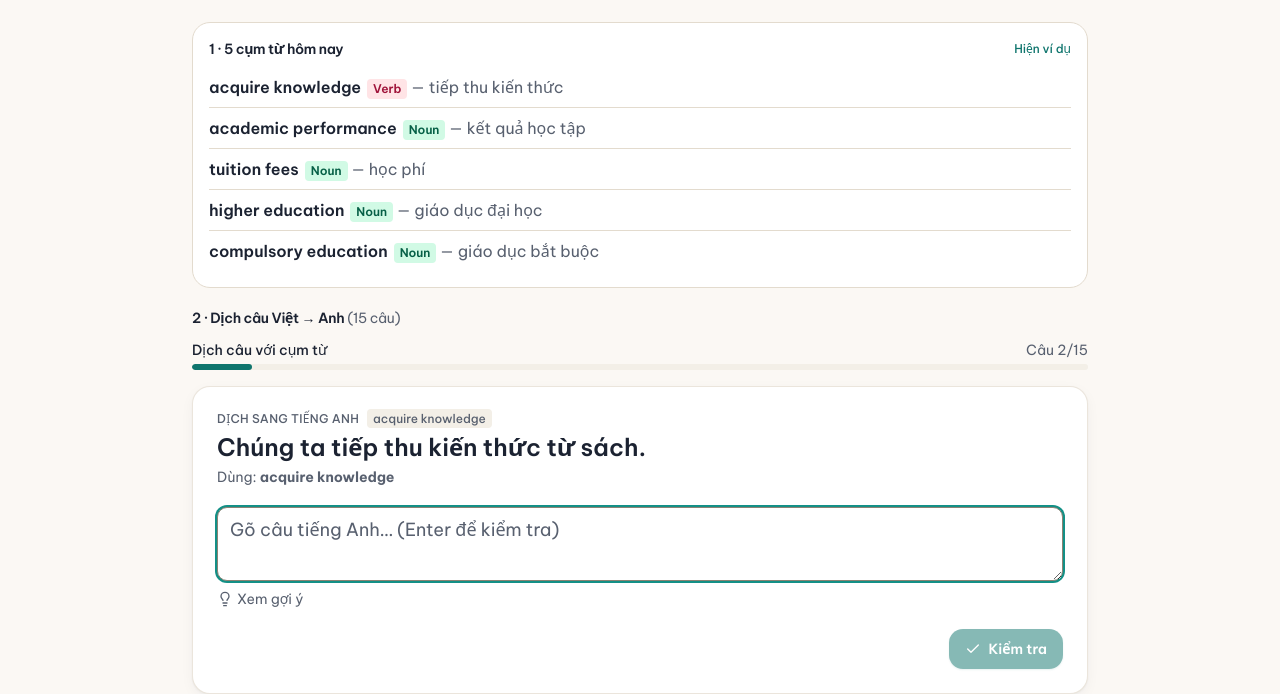
Test case: SentencesPage › shows the 5 collocations, then 3 Vietnamese sentences per collocation to translate, and saves a passing run
Earlier steps of the test are not shown.
Later steps or results of the test are not shown.
(page scrolled)
Expected: the text with test id "prompt" reads "Chúng ta tiếp thu kiến thức từ sách.", top-left (217, 432), bottom-right (646, 462)
Type "We acquire knowledge from books." into the text box named "Câu của bạn" at {"x": 640, "y": 544}, box top-left (217, 507), bottom-right (1063, 581)
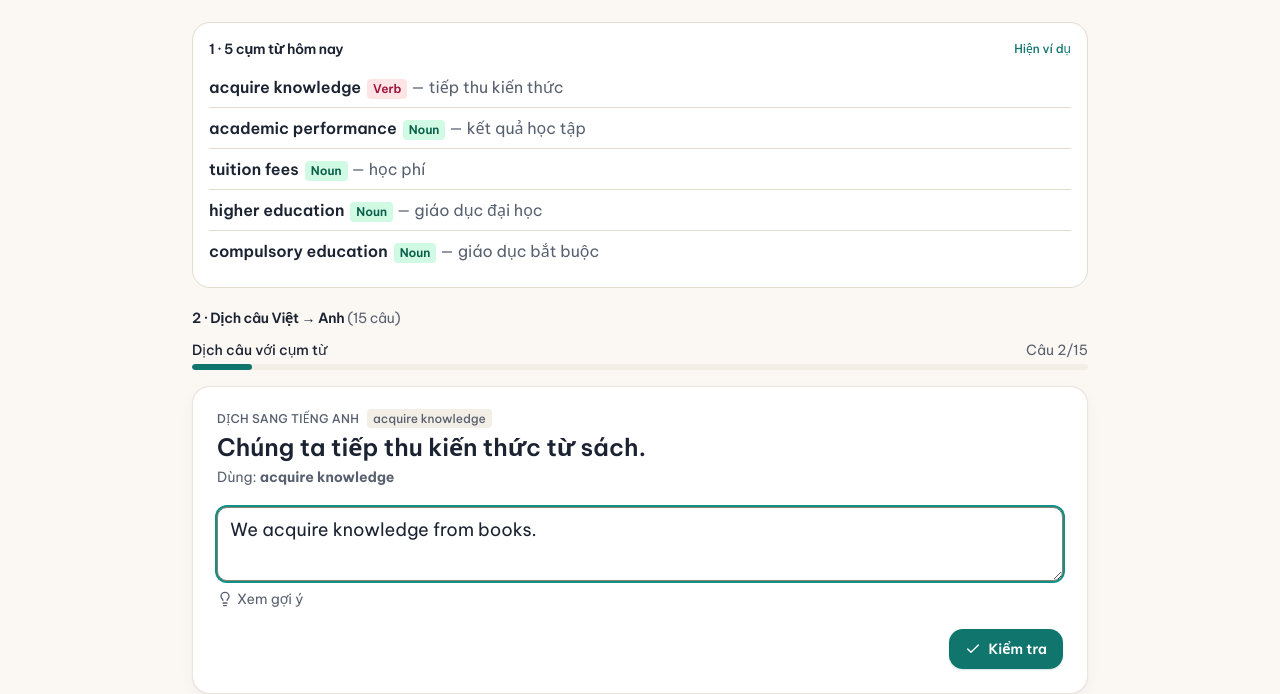
Click the button "Kiểm tra" at {"x": 1006, "y": 649}, box top-left (948, 629), bottom-right (1063, 669)
(page scrolled)
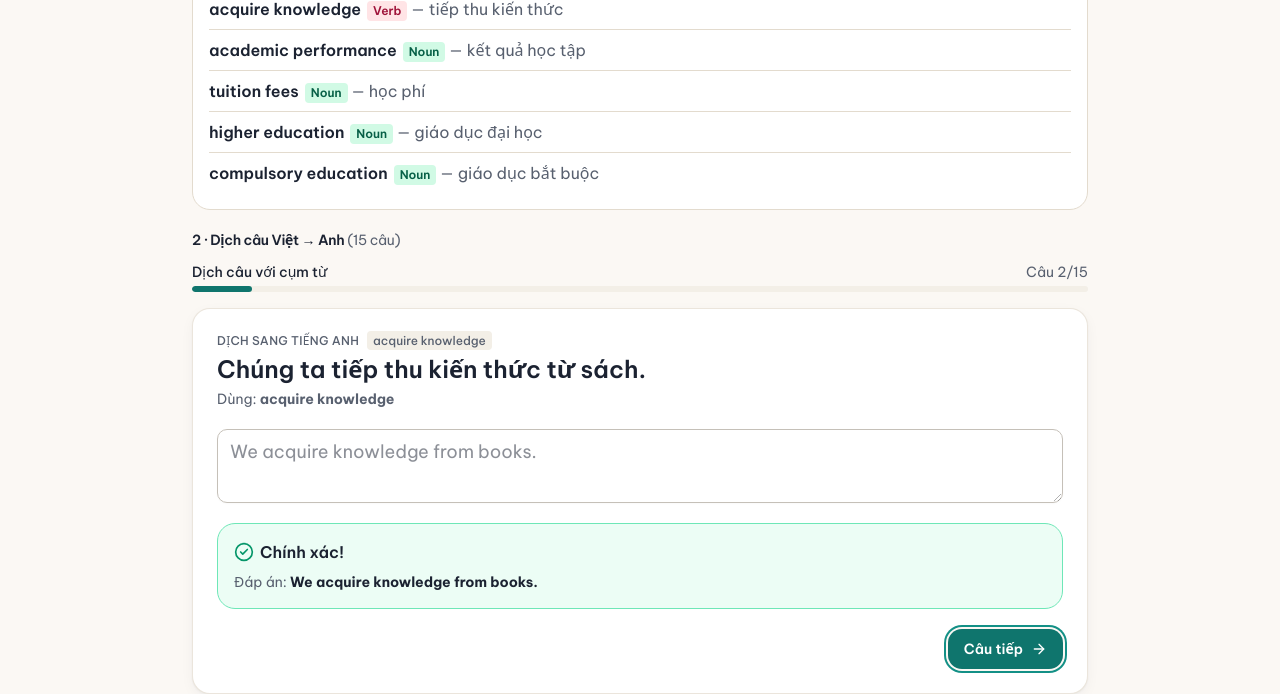
Click the button "Câu tiếp" at {"x": 1005, "y": 649}, box top-left (948, 629), bottom-right (1063, 669)
(page scrolled)
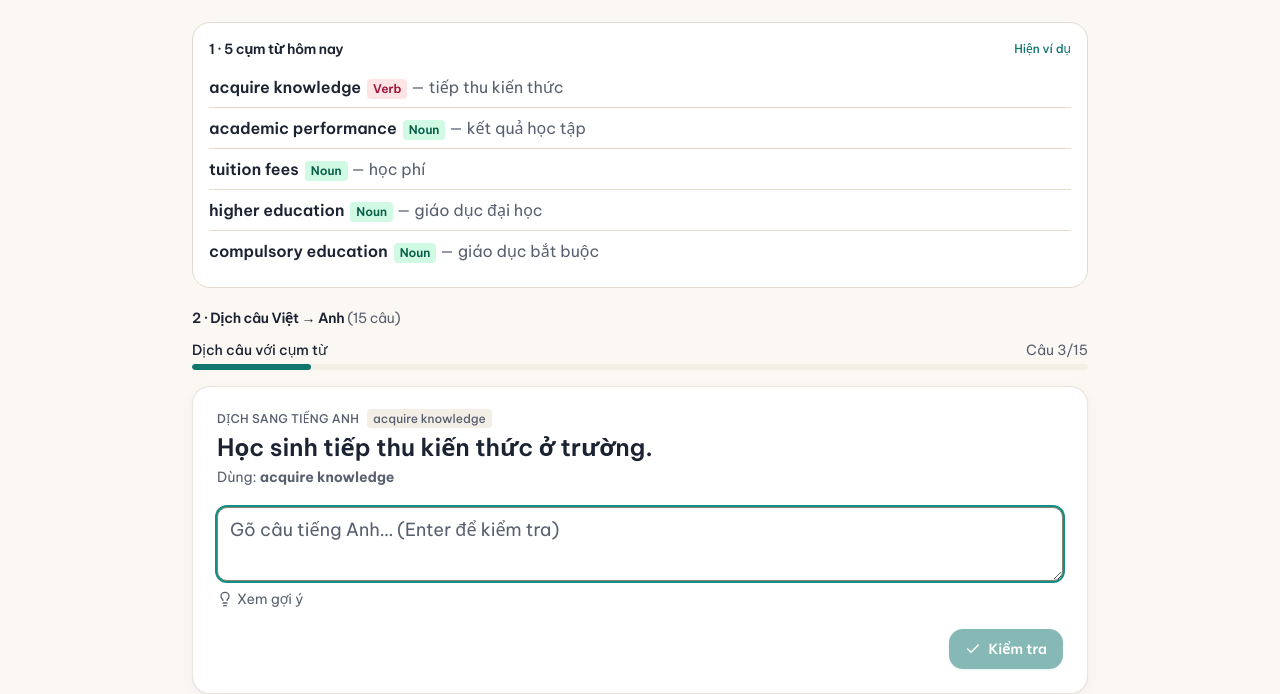
Type "Students acquire knowledge at school." into the text box named "Câu của bạn" at {"x": 640, "y": 544}, box top-left (217, 507), bottom-right (1063, 581)
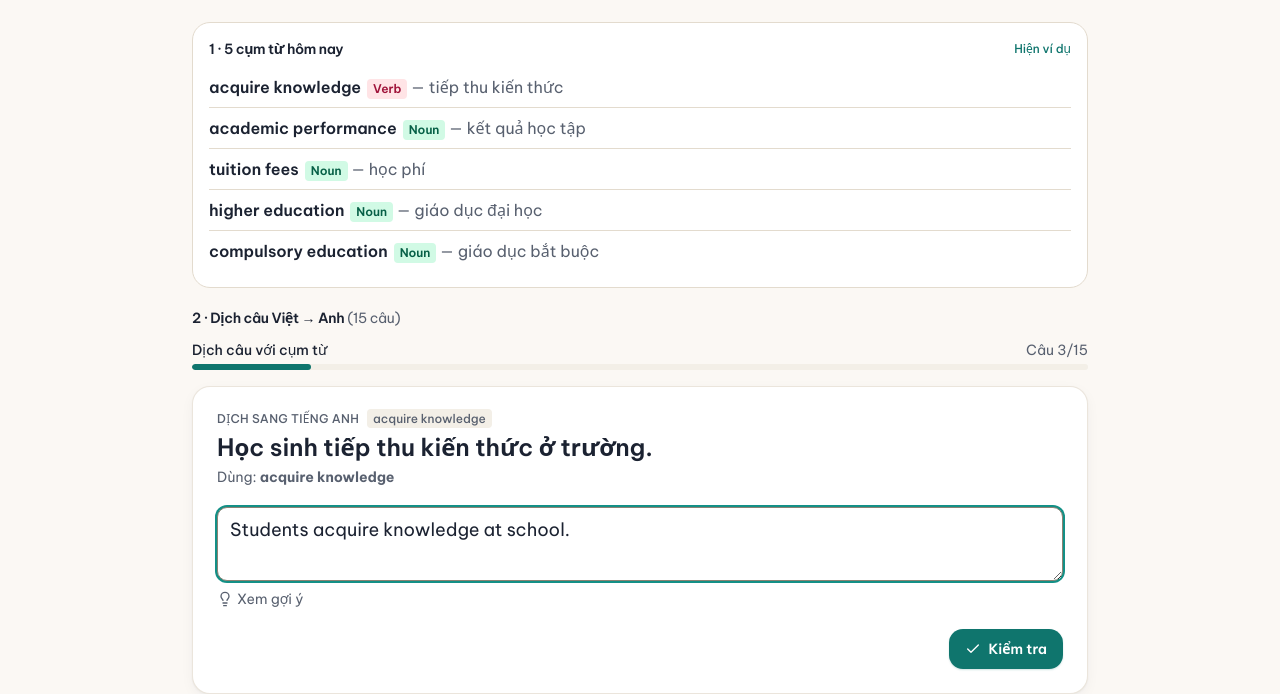
Click the button "Kiểm tra" at {"x": 1006, "y": 649}, box top-left (948, 629), bottom-right (1063, 669)
(page scrolled)
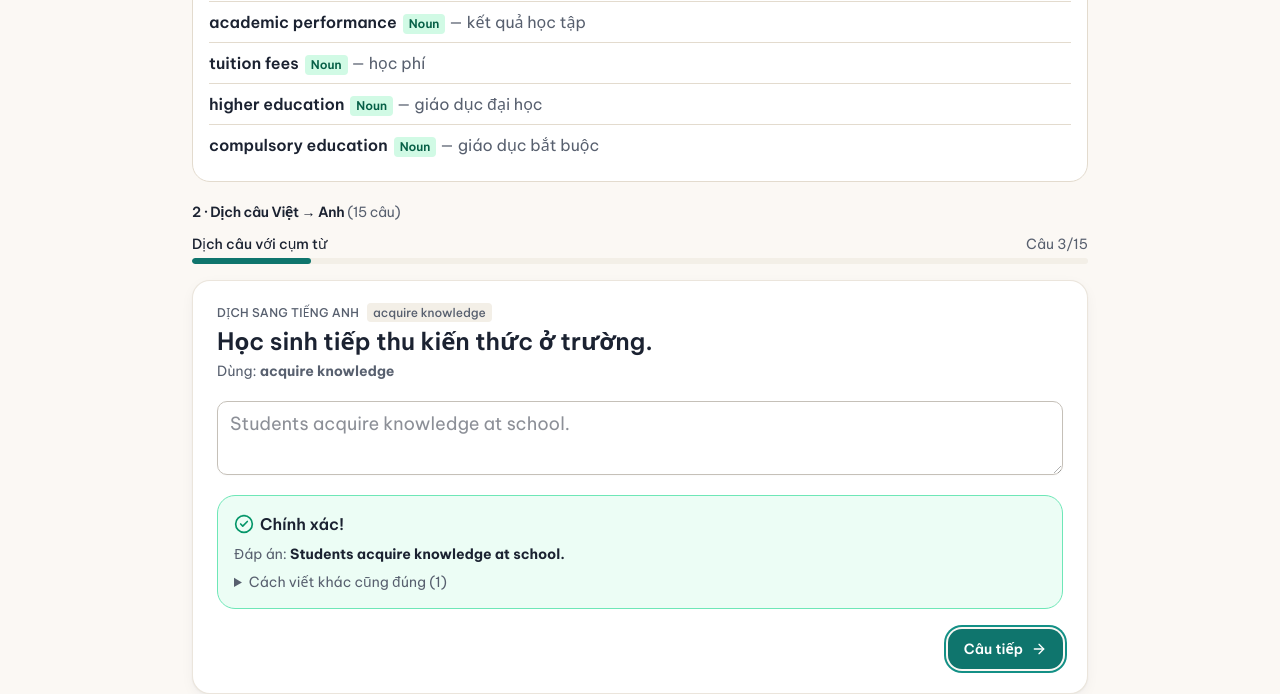
Click the button "Câu tiếp" at {"x": 1005, "y": 649}, box top-left (948, 629), bottom-right (1063, 669)
(page scrolled)
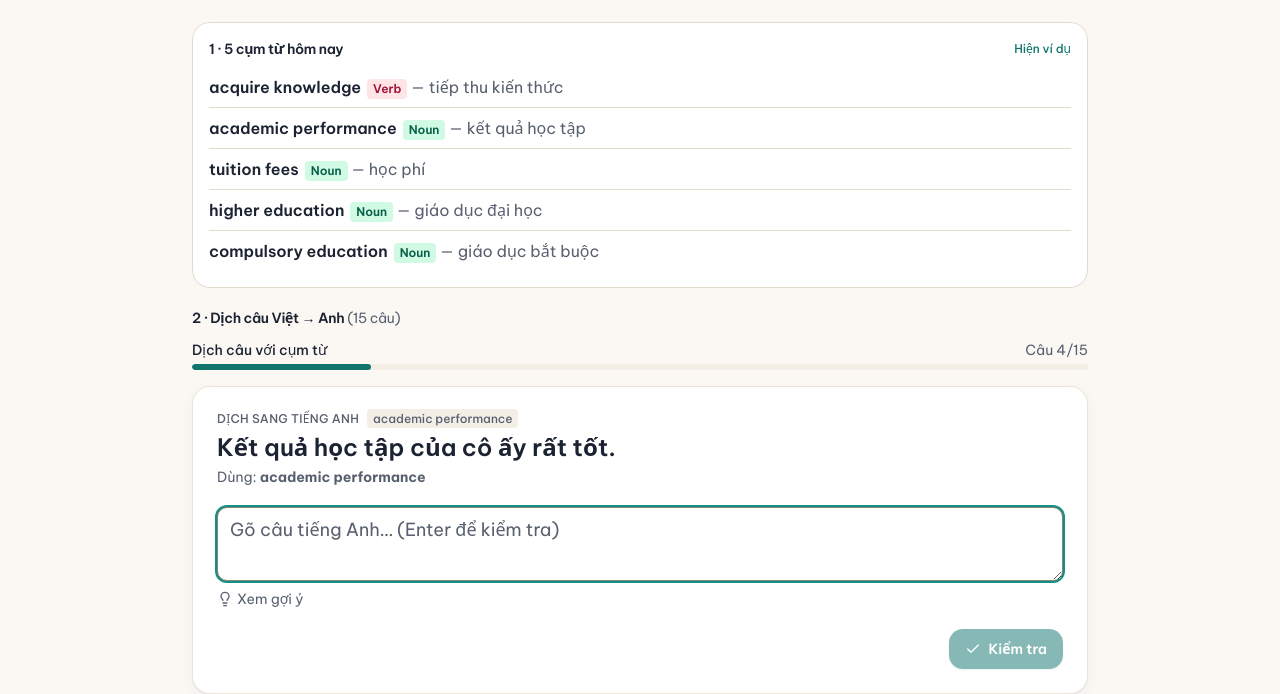
Expected: the text with test id "prompt" reads "Kết quả học tập của cô ấy rất tốt.", top-left (217, 432), bottom-right (616, 462)
